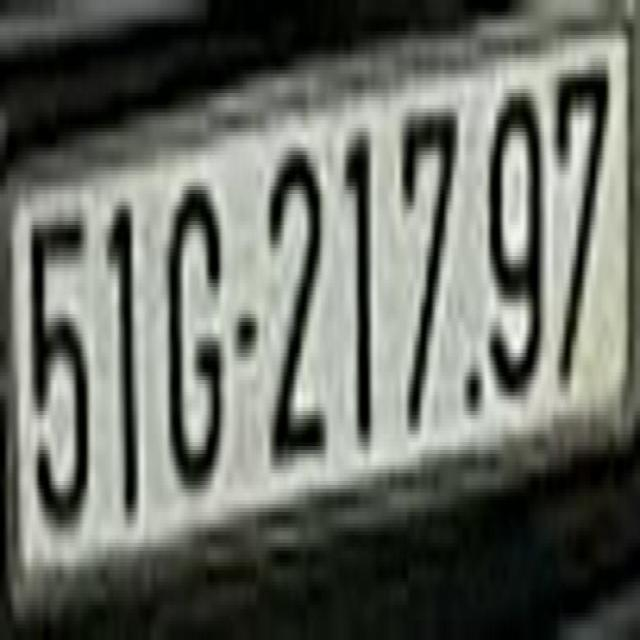1: (107, 190, 142, 524), (341, 132, 376, 442)
2: (266, 136, 334, 473)
5: (30, 206, 91, 520)
7: (397, 101, 459, 419), (556, 66, 610, 403)
9: (490, 86, 540, 400)
G: (167, 178, 225, 496)
